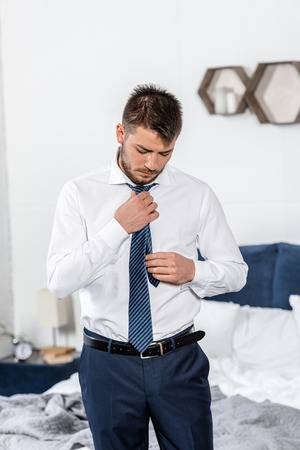F_belt: (77, 325, 199, 355)
F_shirt: (43, 149, 248, 347)
F_tie: (121, 181, 161, 361)
